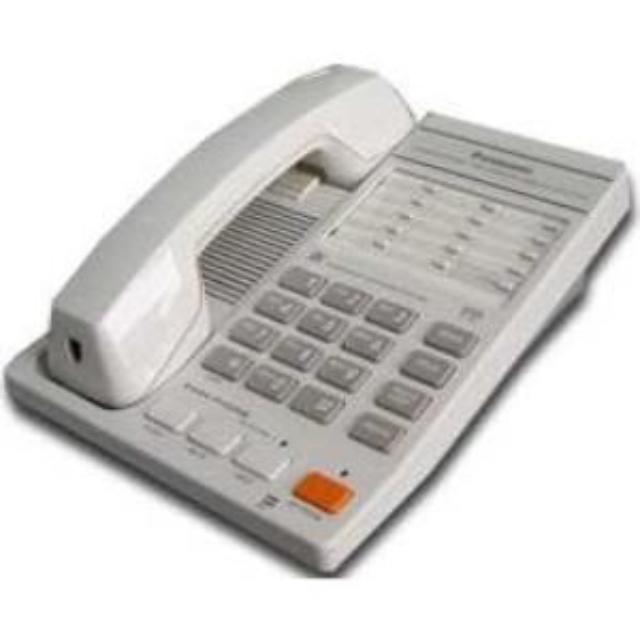Telephone-Set: (0, 65, 640, 580)
